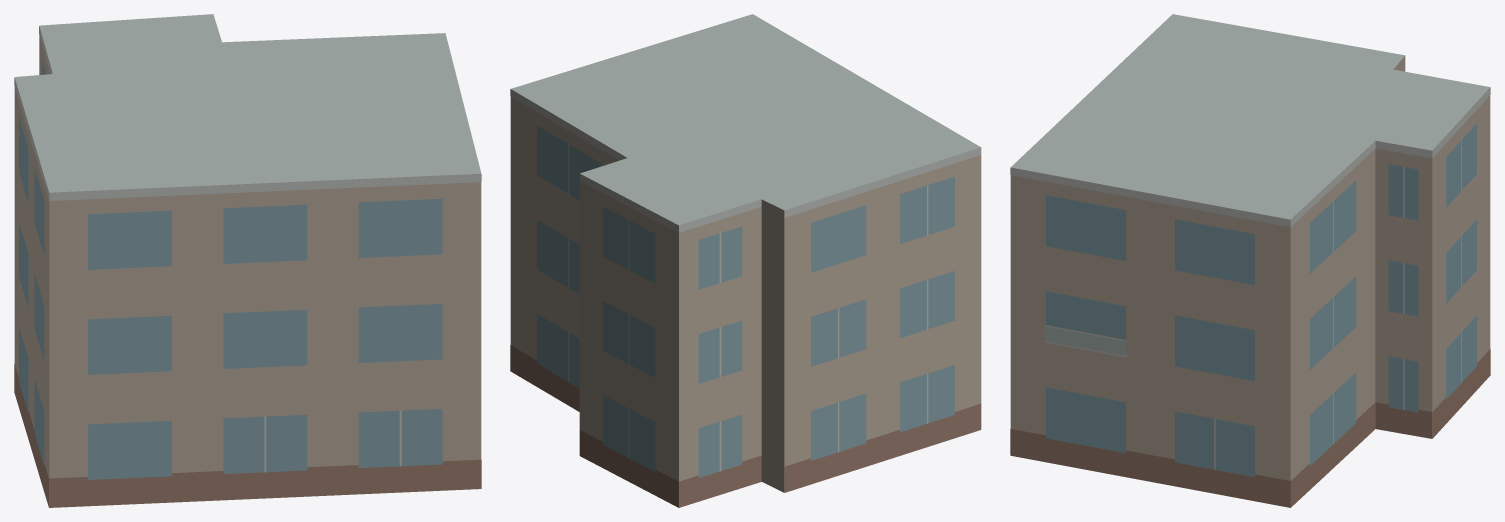
Rendered from survey-upis-32668602.glb.
3 renders of one model, left to right at view 1: azimuth 30°, elevation 25°; view 2: azimuth 150°, elevation 25°; view 3: azimuth 270°, elevation 25°, orthographic. The views are drawn at different scales.
Visible parts, largest first — view 1: survey-upis-32668602.tmp; view 2: survey-upis-32668602.tmp; view 3: survey-upis-32668602.tmp.
Boxes of the visible parts, x1,y1,x2,y2 form: survey-upis-32668602.tmp: (14, 14, 481, 507); survey-upis-32668602.tmp: (510, 14, 981, 507); survey-upis-32668602.tmp: (1010, 14, 1490, 507).
Size of the model in its own units: 14.01 by 9.15 by 13.82.
